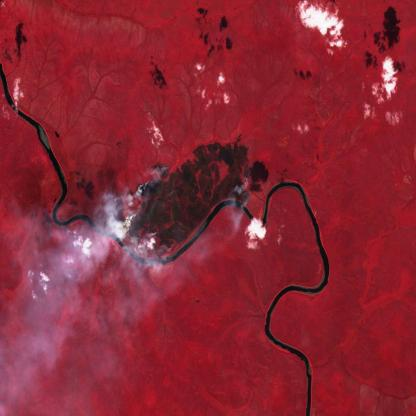fire: (97, 165, 159, 262)
